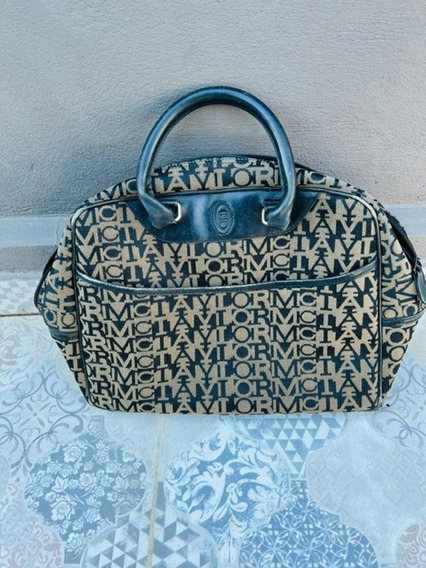cartera: (33, 82, 426, 416)
